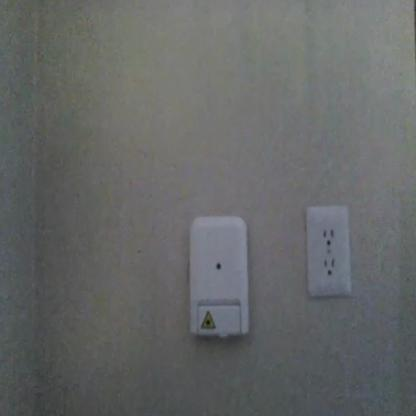OUTLET: (304, 206, 352, 298)
